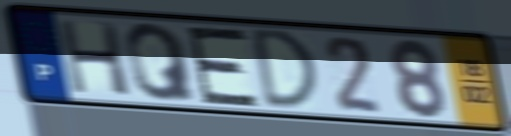2: (325, 34, 384, 116)
8: (386, 36, 449, 120)
D: (250, 26, 322, 112)
E: (183, 25, 262, 109)
H: (55, 18, 135, 99)
Q: (122, 21, 200, 104)
